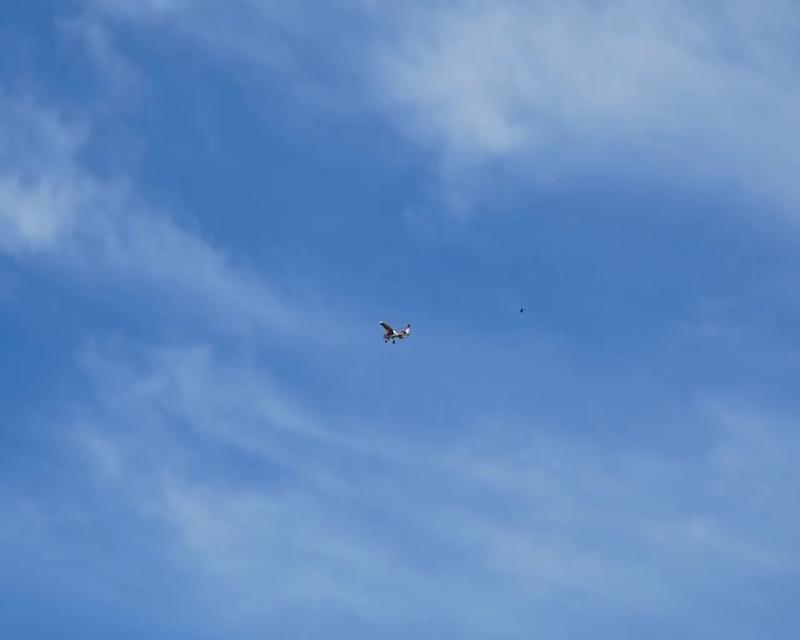UAV: (379, 320, 410, 346)
